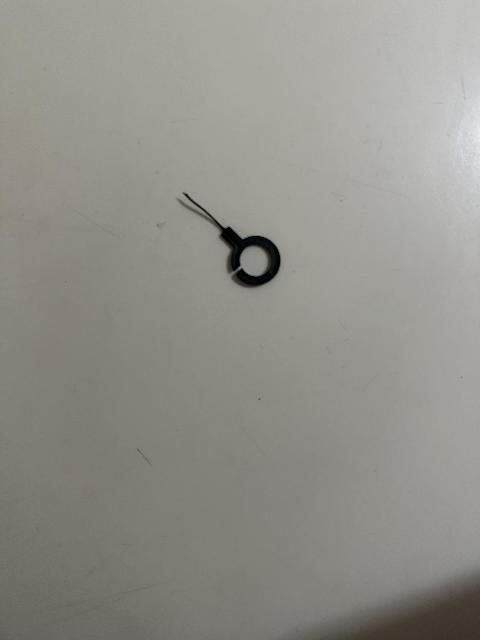Plastik: (178, 189, 295, 292)
